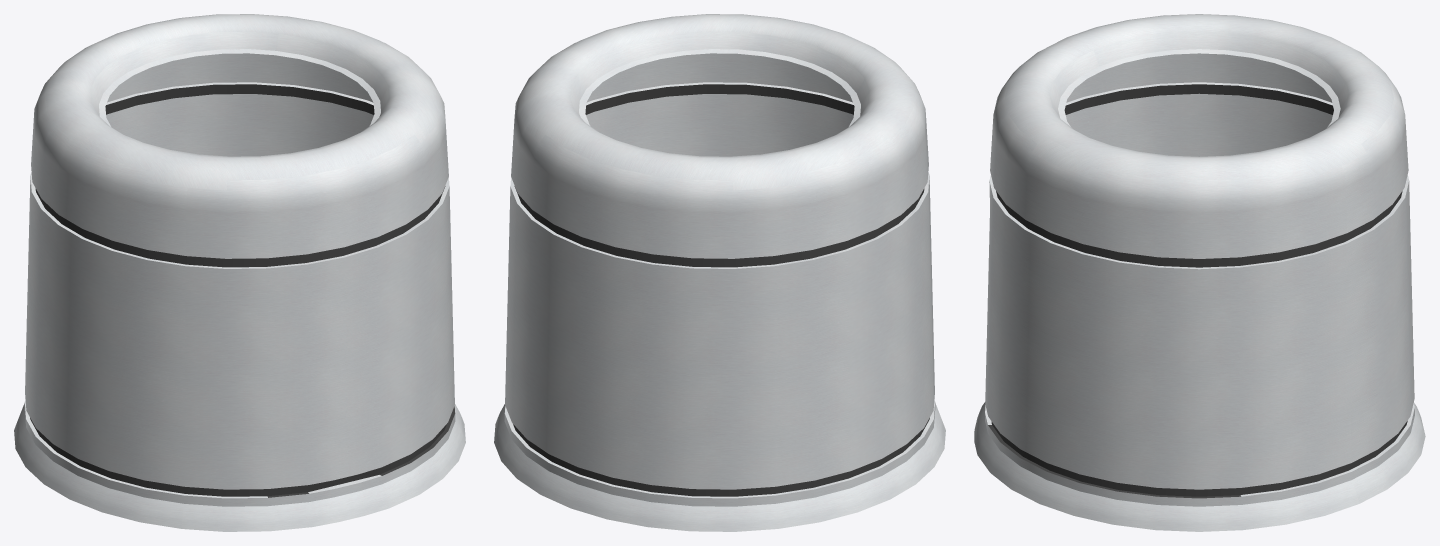
Rendered from incubator tube.glb.
The picture shows the model from 3 angles, left to right: view 1: azimuth 30°, elevation 25°; view 2: azimuth 150°, elevation 25°; view 3: azimuth 270°, elevation 25°; orthographic projection.
Parts seen in each view (by area): view 1: Circle.003; view 2: Circle.003; view 3: Circle.003.
Boxes of the visible parts, box(x1,y1,x2,y2) form: Circle.003: box(14, 14, 465, 531); Circle.003: box(494, 14, 945, 531); Circle.003: box(974, 14, 1425, 531).
Size of the model in its own units: 6.04 by 5.12 by 6.02.
2 materials, 1 textured.
